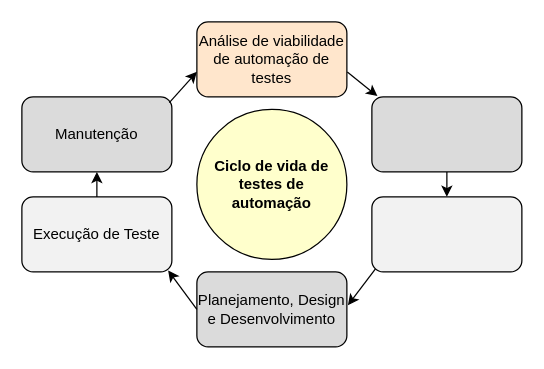
Image size: 544x369. Some labels were removed from this diagram. The shapes that lost their labels are listed below. From the top down, each one's centre as x and y in pixels, then its label:
At (x=446, y=134): "Seleção de ferramenta de teste".
At (x=446, y=234): "Determine o escopo dos testes de automação".
